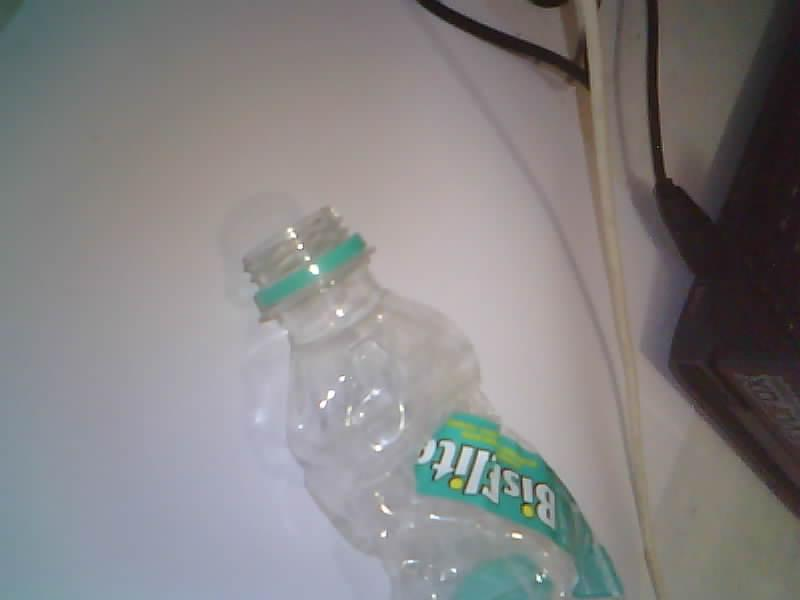non-biodegradable: (245, 209, 621, 599)
